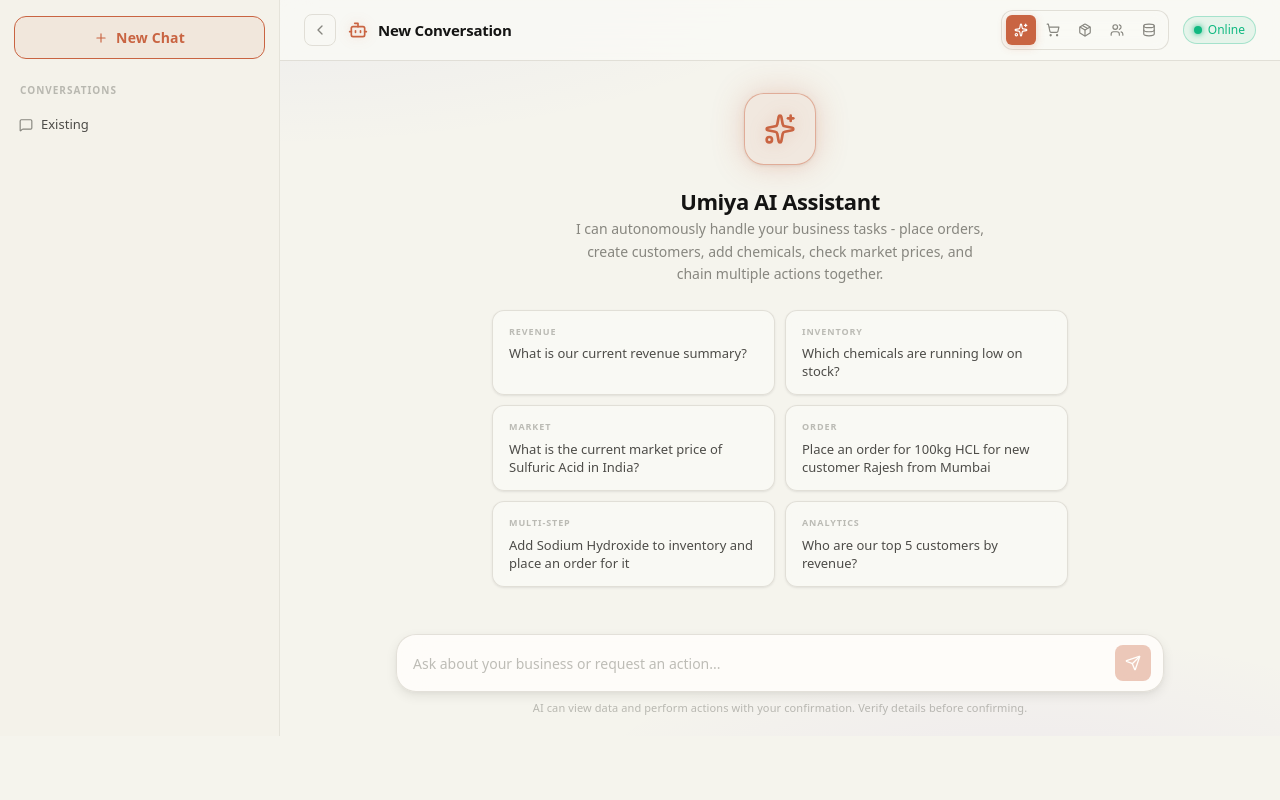
Scenario: AIAssistant › resets state on New Chat click
Check: the text "Existing" is shown, box [41,115,89,135]
What coordinates should you click on to do the following:
click the button "Existing"
I would click on:
 (128, 125)
Its box is [19,115,236,135].
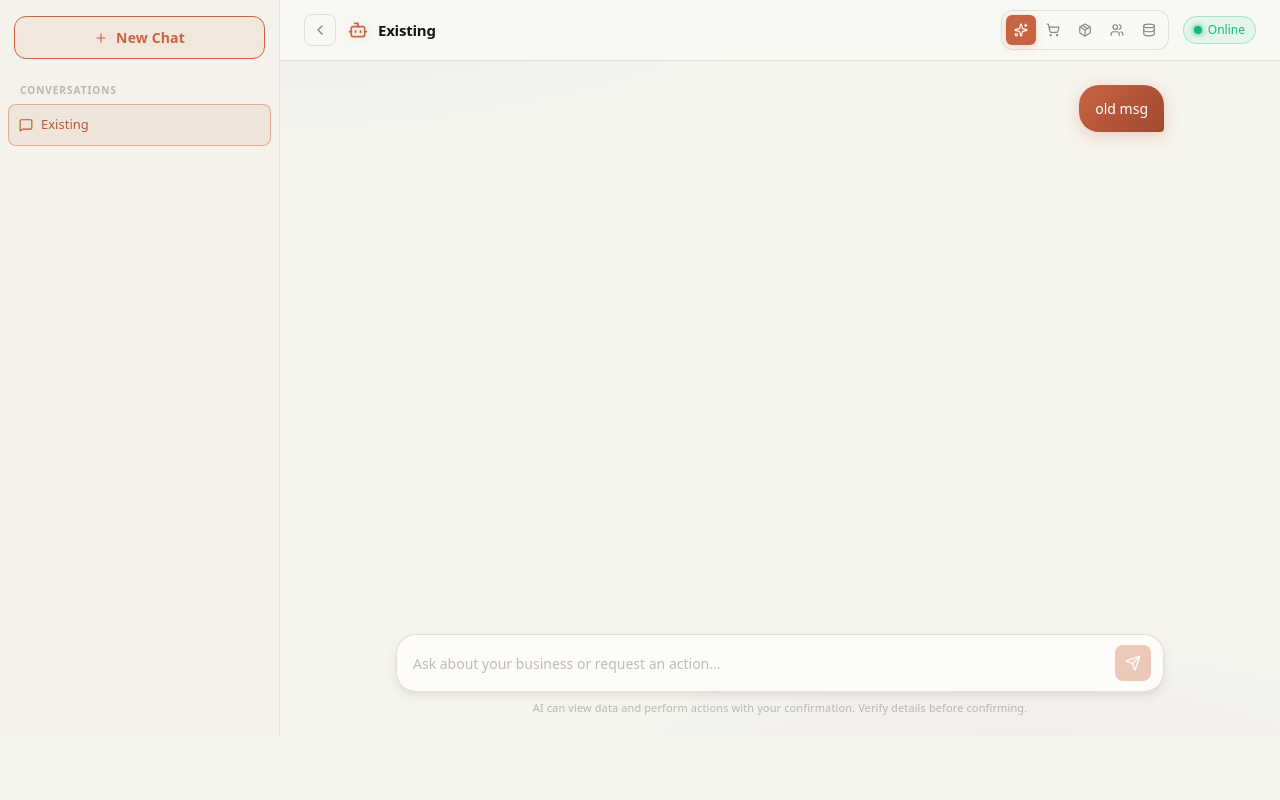
Check: the text "old msg" is shown, box [1095,97,1148,120]
What coordinates should you click on to do the following:
click the button "New Chat"
I would click on:
 (140, 38)
Its box is [14,16,265,59].
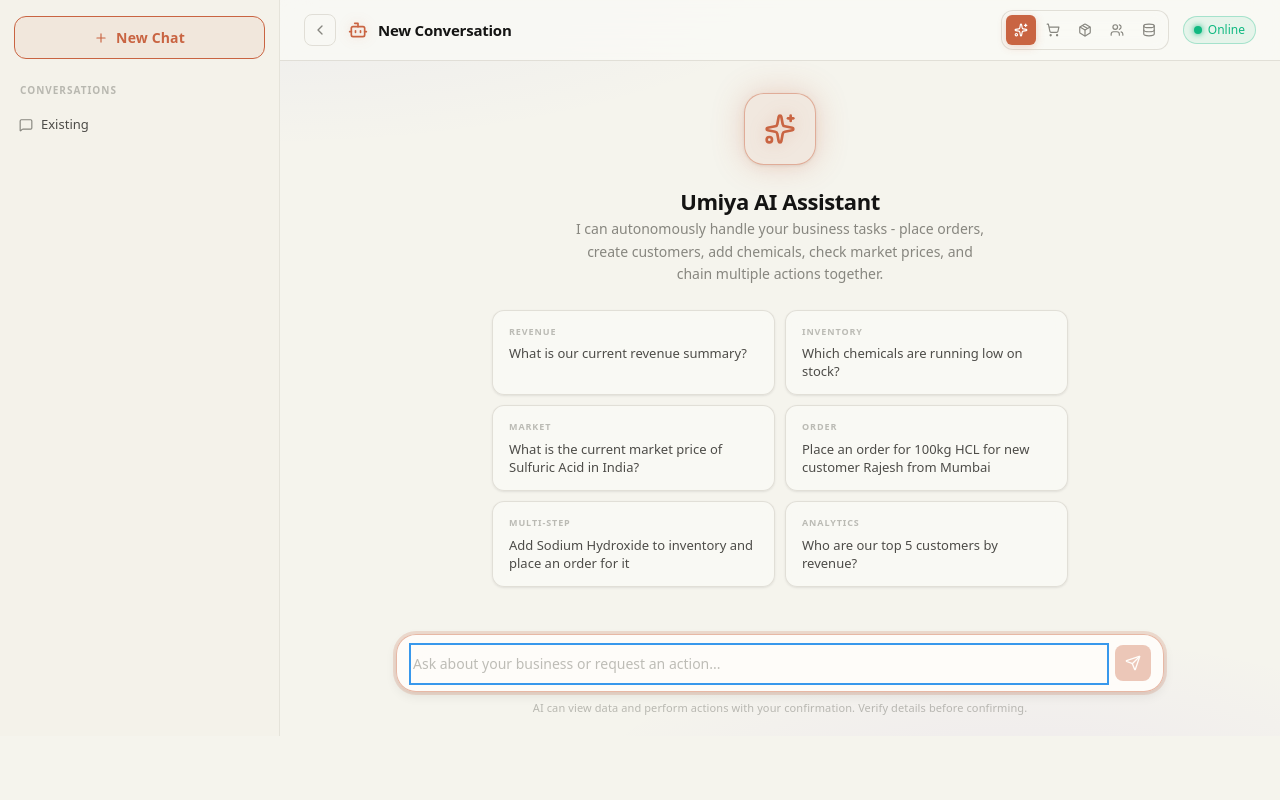
Check: the heading "Umiya AI Assistant" is shown, box [680,186,880,216]
